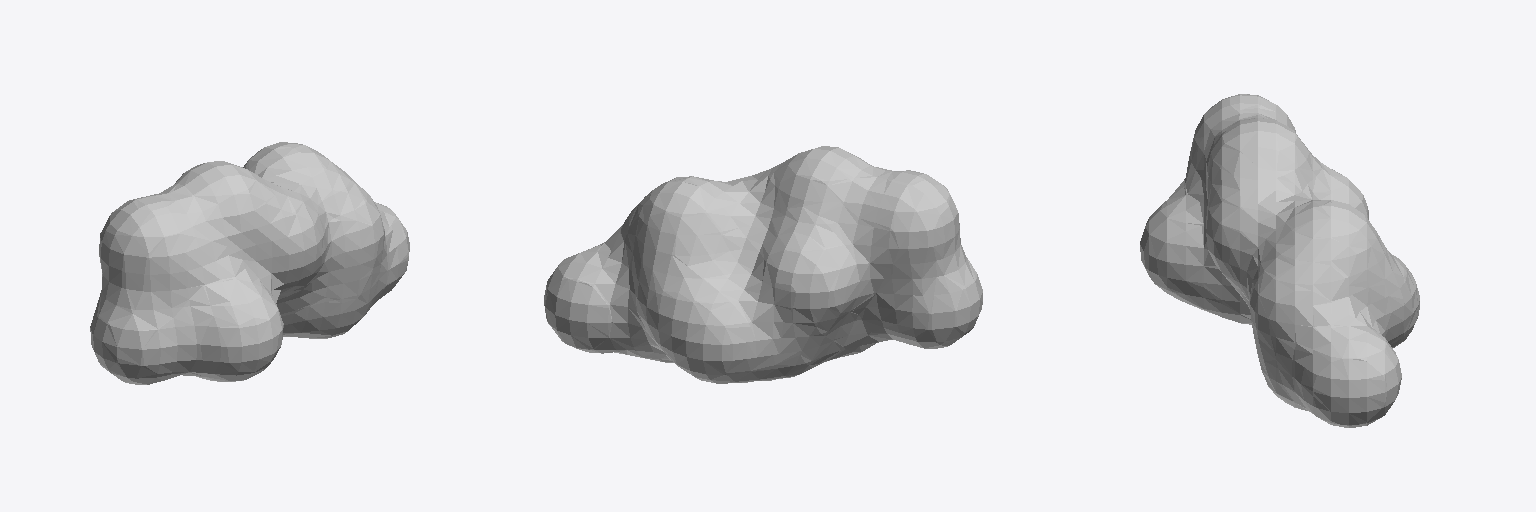
File: Cloud.obj
3 views of the same model, side by side, from view 1: azimuth 30°, elevation 25°; view 2: azimuth 150°, elevation 25°; view 3: azimuth 270°, elevation 25° (orthographic).
Visible parts, largest first — view 1: Mball; view 2: Mball; view 3: Mball.
Boxes of the visible parts, box(x1,y1,x2,y2) form: Mball: box(90, 142, 409, 384); Mball: box(544, 146, 982, 383); Mball: box(1140, 94, 1419, 427).
Bounding box in the file's own units: 9.3 × 5.34 × 6.17.